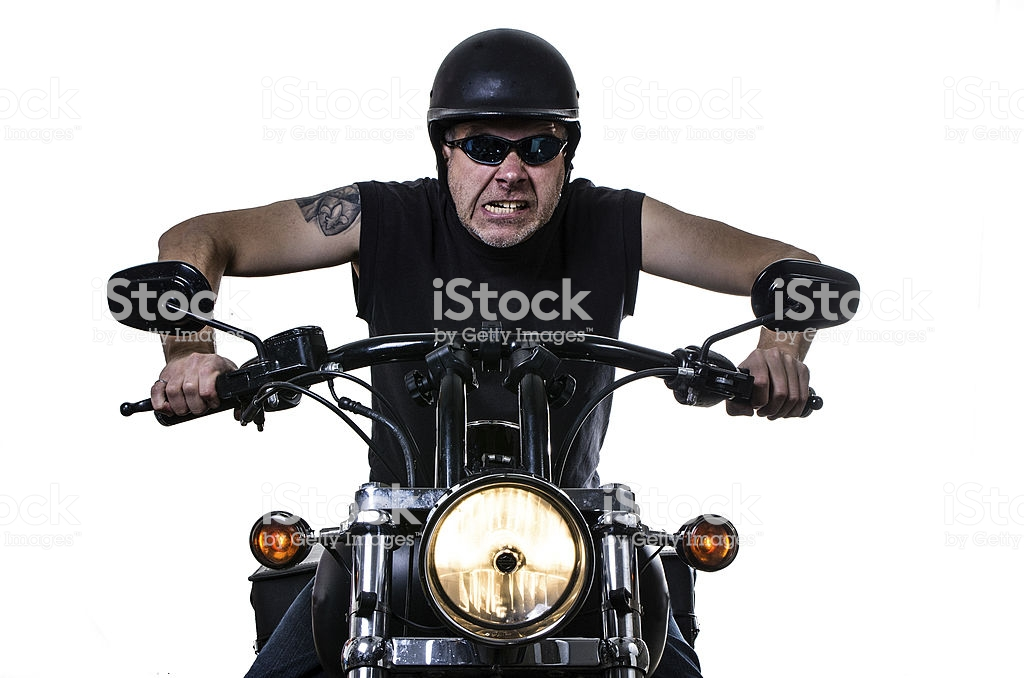helmet: (425, 25, 591, 146)
